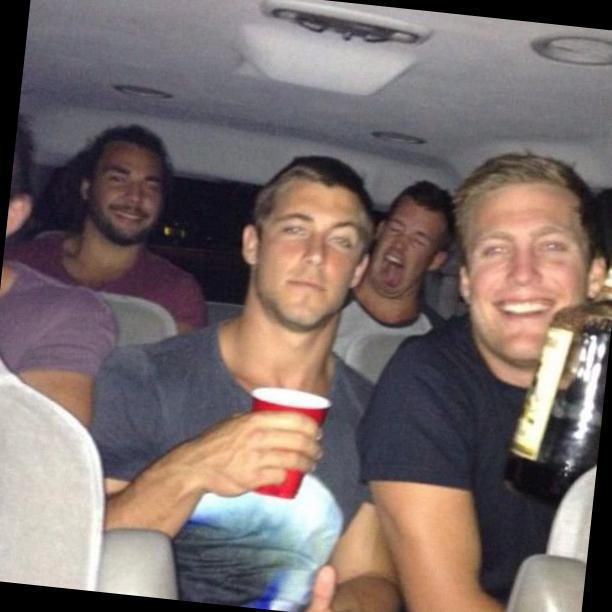Drunk: (472, 184, 588, 362), (264, 184, 364, 322), (94, 137, 160, 242), (375, 197, 436, 296)
